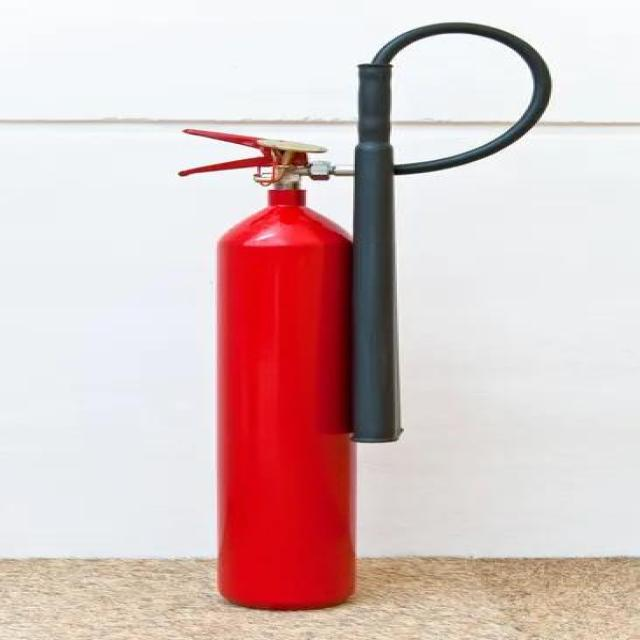fire_extinguisher: (163, 18, 557, 615)
